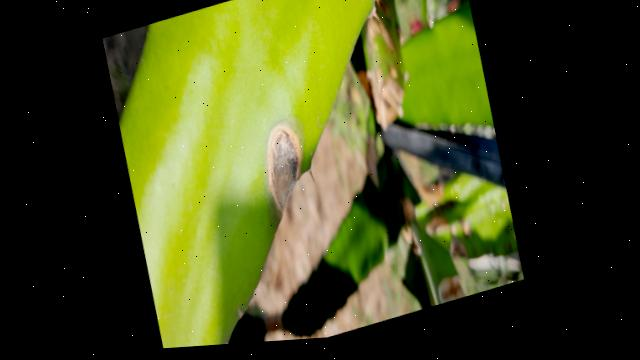stemcanker: (259, 118, 308, 223)
